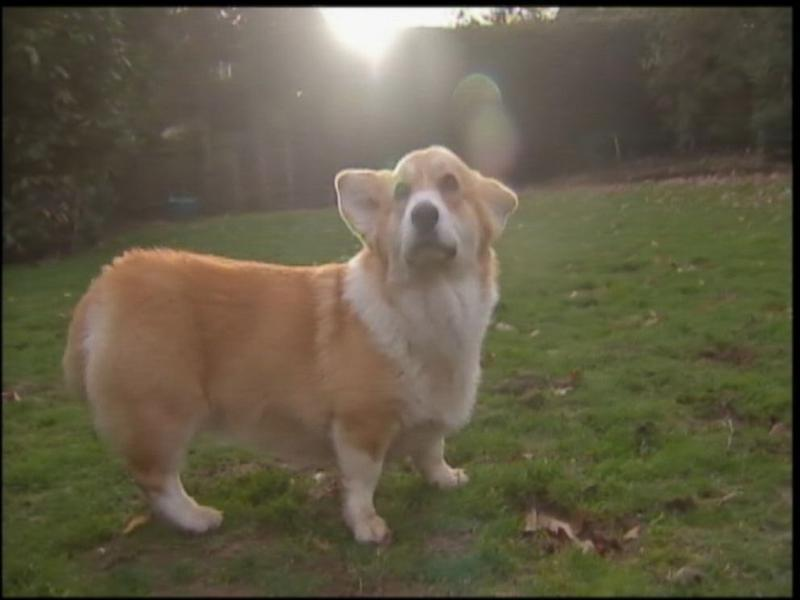corgi: (332, 145, 526, 276)
